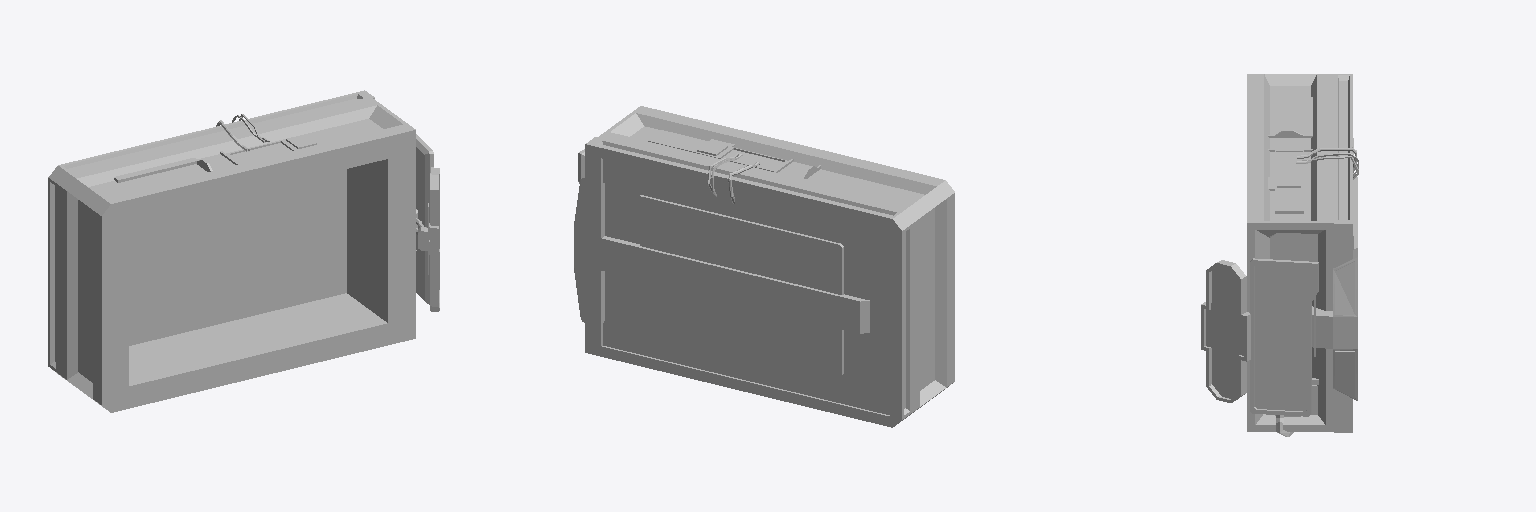
The model's file is cart.obj.
3 renders of one model, left to right at view 1: azimuth 30°, elevation 25°; view 2: azimuth 150°, elevation 25°; view 3: azimuth 270°, elevation 25°, orthographic.
Parts seen in each view (by area): view 1: Cart; view 2: Cart; view 3: Cart.
Boxes of the visible parts, box(x1,y1,x2,y2) form: Cart: box(48, 90, 439, 412); Cart: box(574, 106, 954, 427); Cart: box(1201, 74, 1358, 436).
Bounding box in the file's own units: 2.1 × 1.3 × 0.8416.